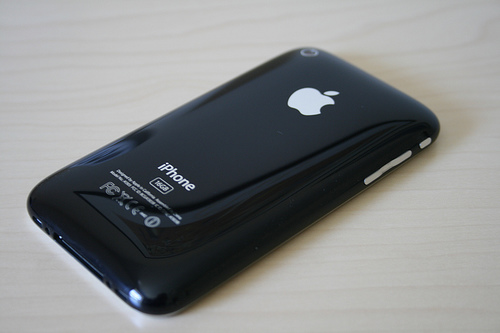apple: (284, 75, 341, 123)
